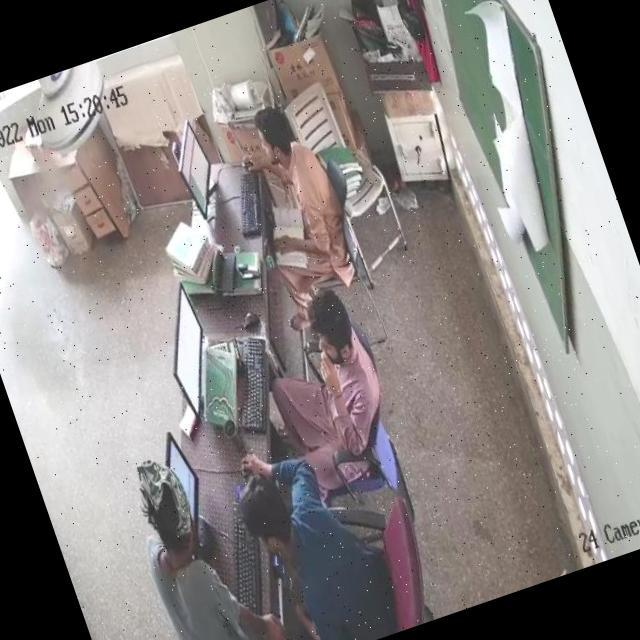person: (222, 429, 392, 640), (252, 284, 396, 476), (121, 452, 252, 640), (228, 96, 351, 283)
